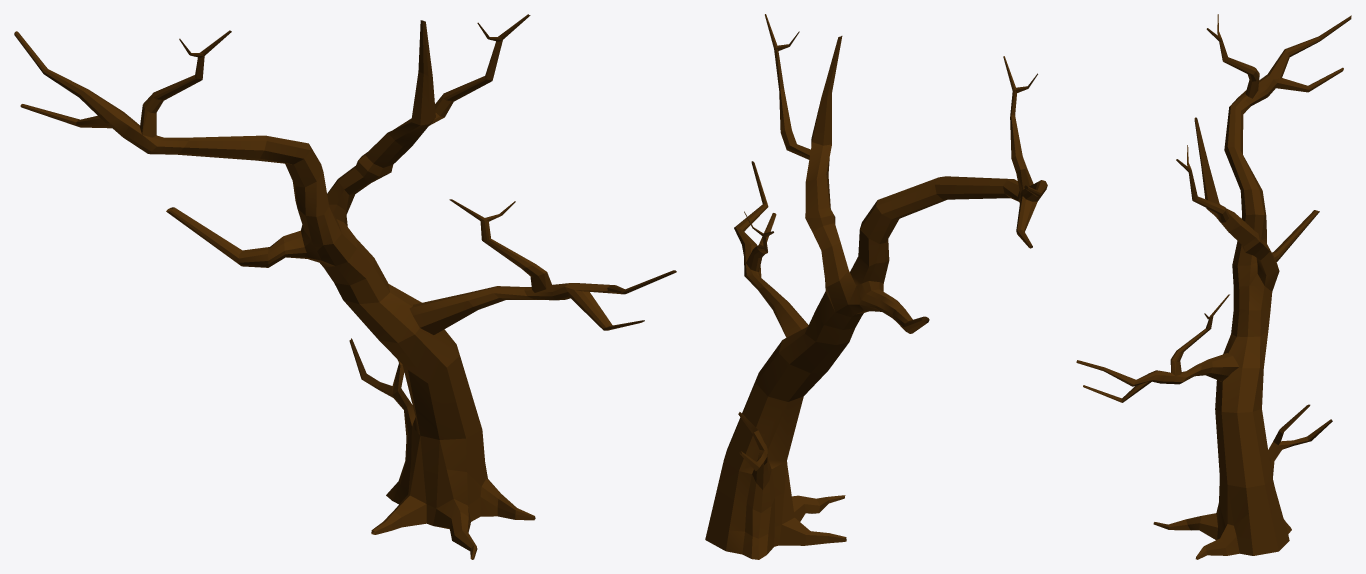
Rendered from TreeDead1.fbx.
The picture shows the model from 3 angles, left to right: view 1: azimuth 30°, elevation 25°; view 2: azimuth 150°, elevation 25°; view 3: azimuth 270°, elevation 25°; orthographic projection. The views are drawn at different scales.
Parts seen in each view (by area): view 1: DeadTree2; view 2: DeadTree2; view 3: DeadTree2.
Boxes of the visible parts, left/top/right/bottom form: DeadTree2: left=14, top=14, right=676, bottom=559; DeadTree2: left=705, top=14, right=1047, bottom=559; DeadTree2: left=1076, top=14, right=1351, bottom=559.
Size of the model in its own units: 183 by 203 by 120.
